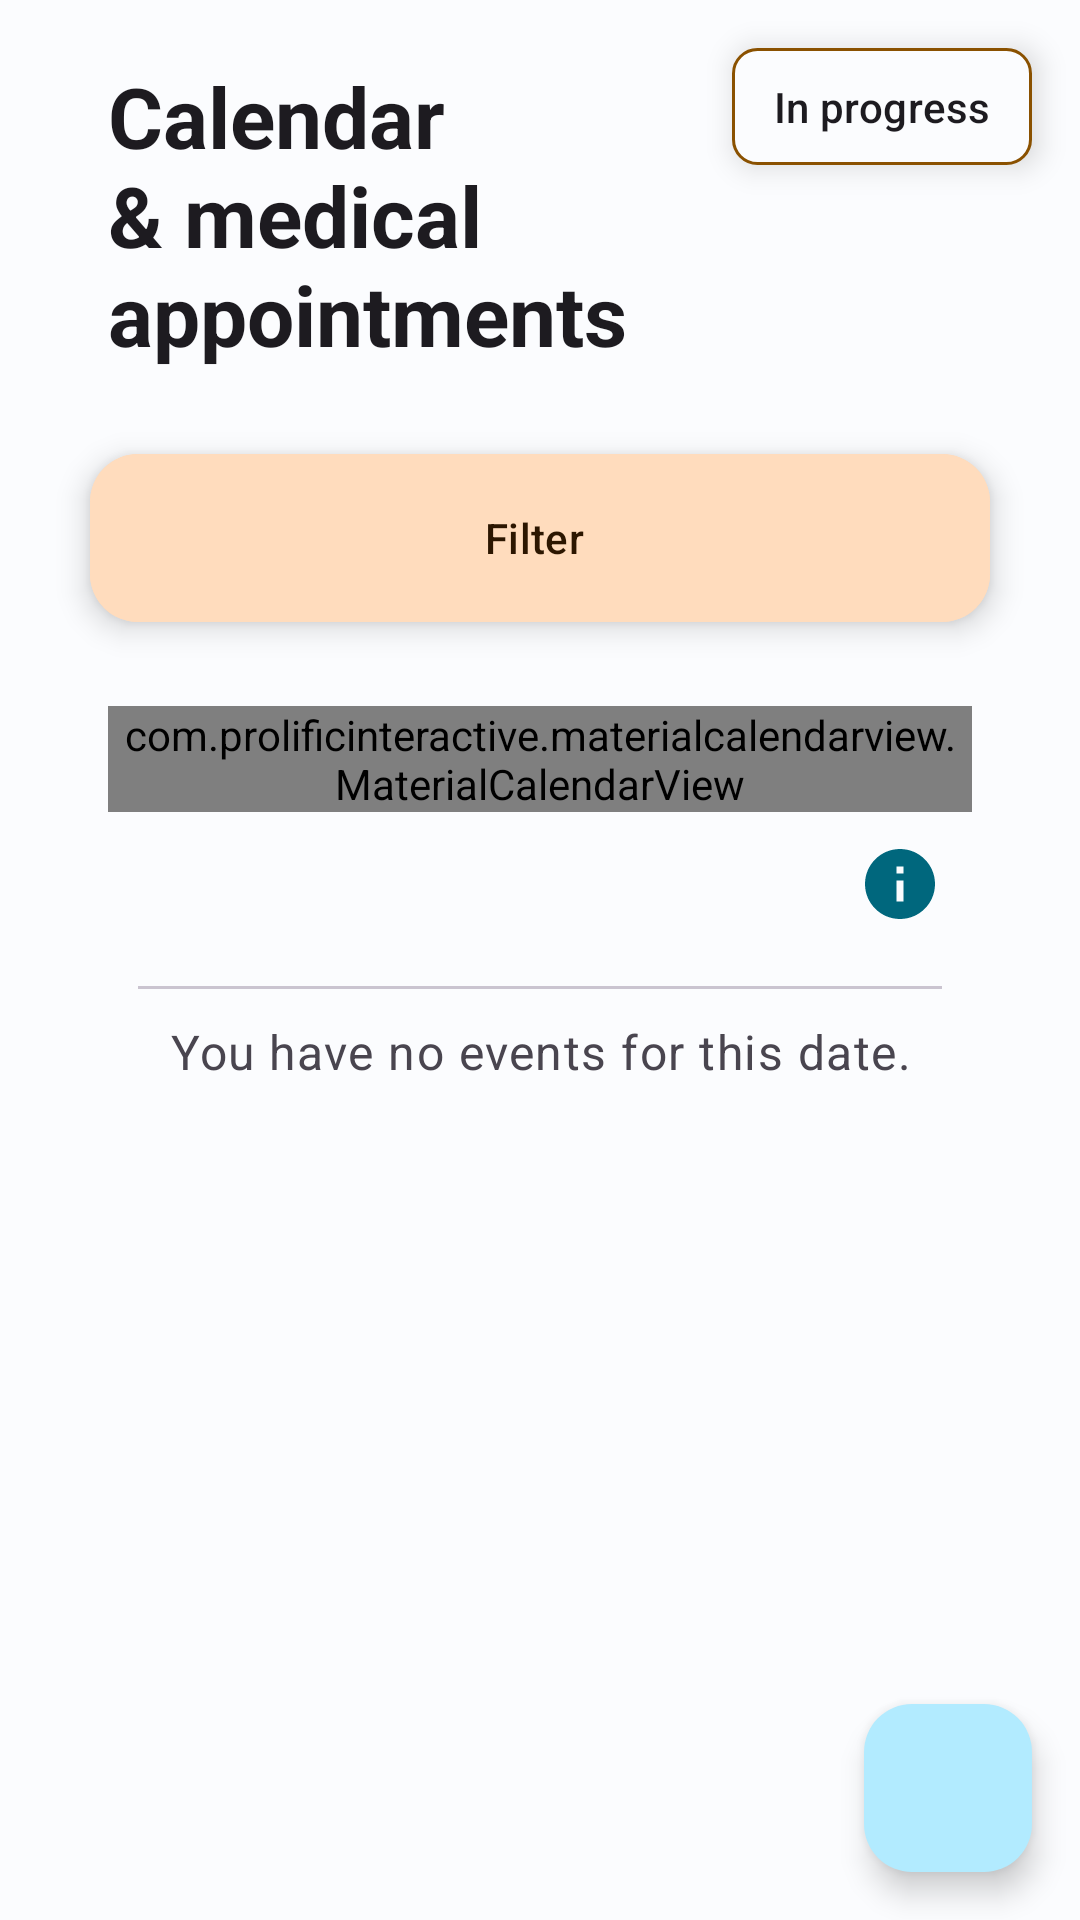

Named icons in this screenshot (1080px×1920px) and their bounding boxes, Rect(x1, y1, x2, y2):
Calendar legend: Rect(865, 849, 935, 919)
